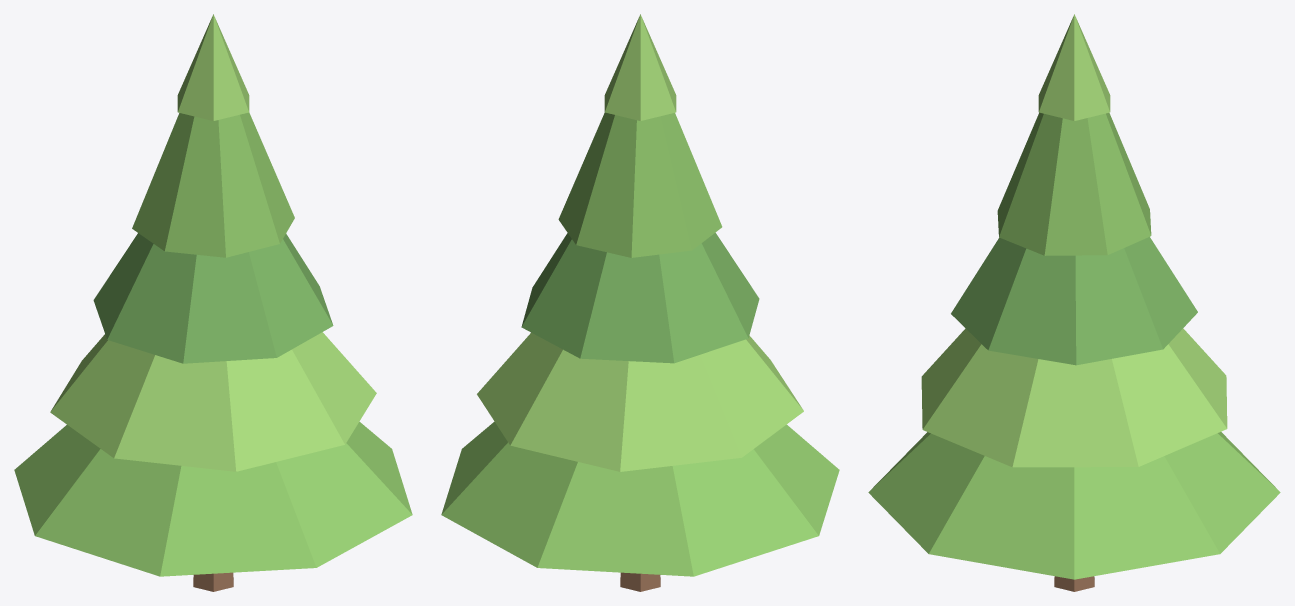
The model's file is pine-tiered-1.glb.
3 views of the same model, side by side, from view 1: azimuth 30°, elevation 25°; view 2: azimuth 150°, elevation 25°; view 3: azimuth 270°, elevation 25° (orthographic).
Parts seen in each view (by area): view 1: pine-tiered-1-leaf1, pine-tiered-1-leaf2, pine-tiered-1-leaf3, pine-tiered-1-bark; view 2: pine-tiered-1-leaf1, pine-tiered-1-leaf2, pine-tiered-1-leaf3, pine-tiered-1-bark; view 3: pine-tiered-1-leaf1, pine-tiered-1-leaf2, pine-tiered-1-leaf3.
Part boxes in pixels (<box>): pine-tiered-1-leaf1: <box>14,112,412,576</box>; pine-tiered-1-leaf2: <box>50,14,376,471</box>; pine-tiered-1-leaf3: <box>93,233,333,363</box>; pine-tiered-1-bark: <box>193,572,233,591</box>; pine-tiered-1-leaf1: <box>441,112,839,576</box>; pine-tiered-1-leaf2: <box>477,14,803,471</box>; pine-tiered-1-leaf3: <box>521,232,759,363</box>; pine-tiered-1-bark: <box>620,572,660,591</box>; pine-tiered-1-leaf1: <box>868,112,1280,579</box>; pine-tiered-1-leaf2: <box>921,14,1227,467</box>; pine-tiered-1-leaf3: <box>951,236,1197,365</box>.
Size of the model in its own units: 2.5 by 3.8 by 2.5.
